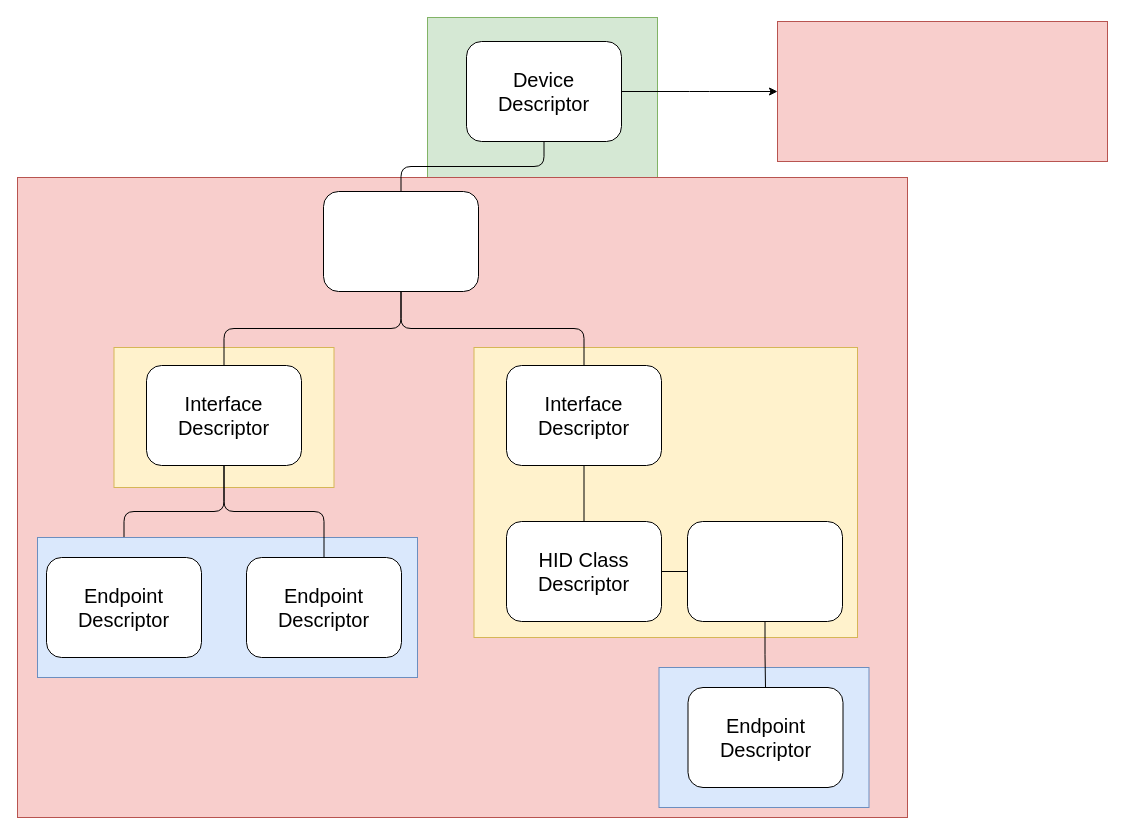
Image size: 1125x835. Some labels were removed from this diagram. Here are the shapes that lost their labels. From the top down, the centre of each, then its label:
At pixel 942 91: "Another Configuration Descriptor".
At pixel 400 241: "Configuration Descriptor".
At pixel 764 571: "Report Descriptor".
